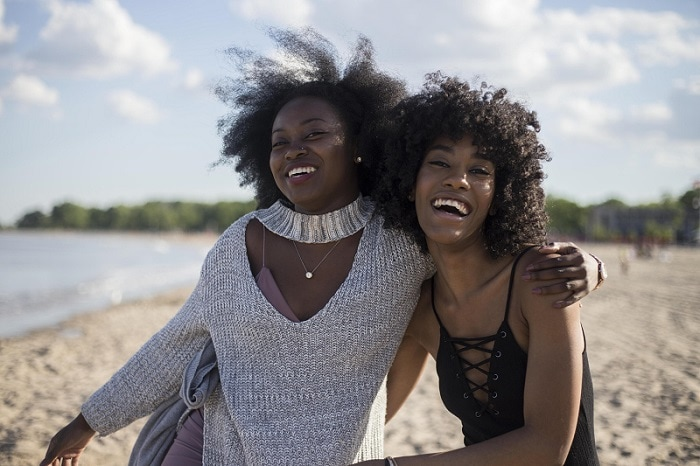without_mask: (416, 142, 497, 244), (268, 111, 348, 206)
